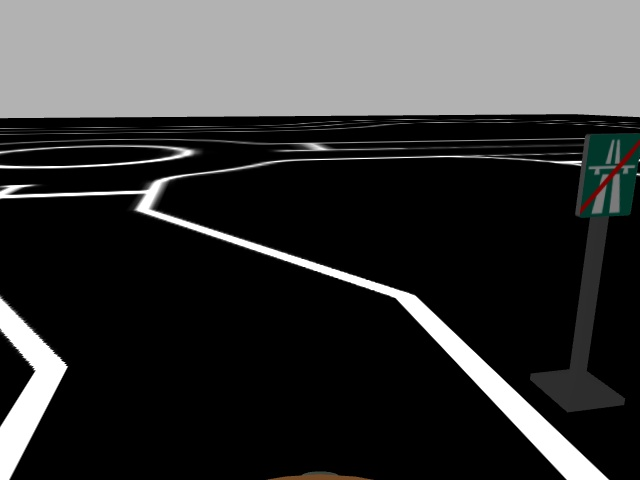leave_highway: (575, 131, 640, 221)
